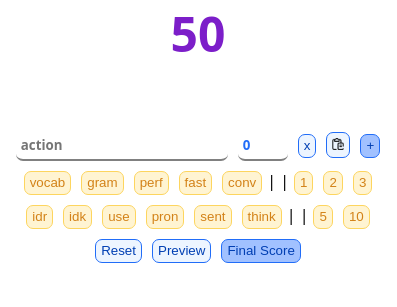
App › should restore sessionRecord from localStorage when available
Click the button "Preview".
click(182, 251)  # box [152,239,211,263]
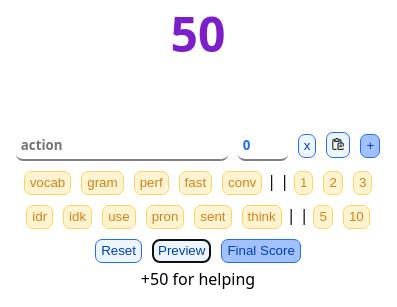
Expected: the list with test id "session-record" reads "+50 for helping", [141,268,255,290]
